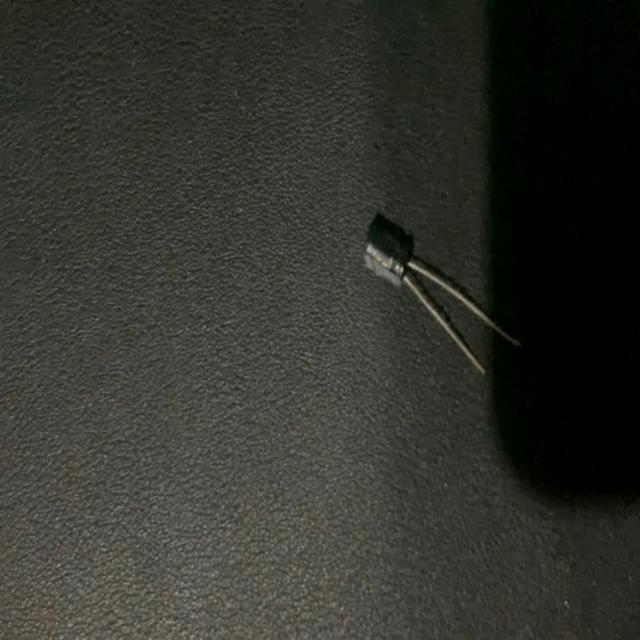capacitor: (364, 229, 520, 372)
